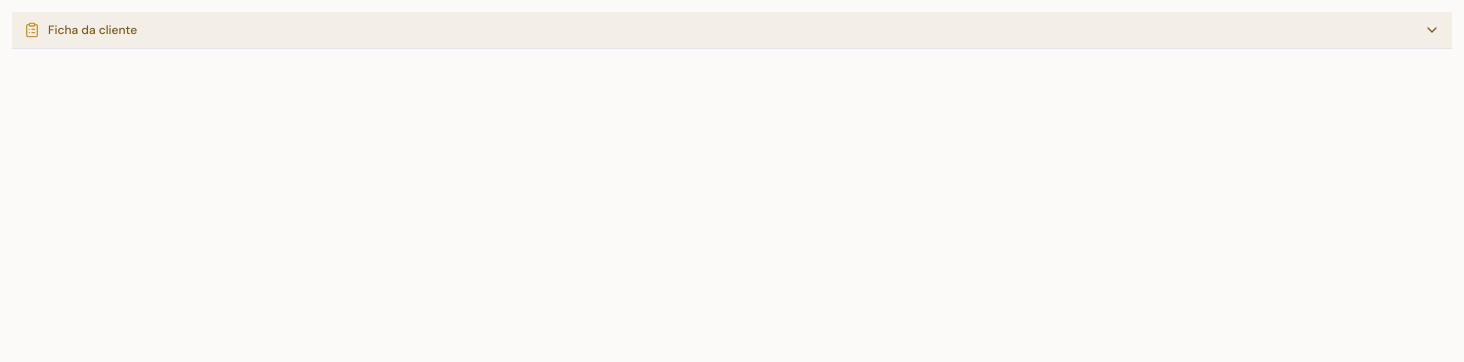
Scenario: Ficha da cliente › abre recolhida, consulta a conversa e mostra o conteúdo ao expandir
Expected: the text "Escolheu vestido verde M" is not shown
Click the button "Ficha da cliente".
click(93, 30)  # box [12,12,1452,48]
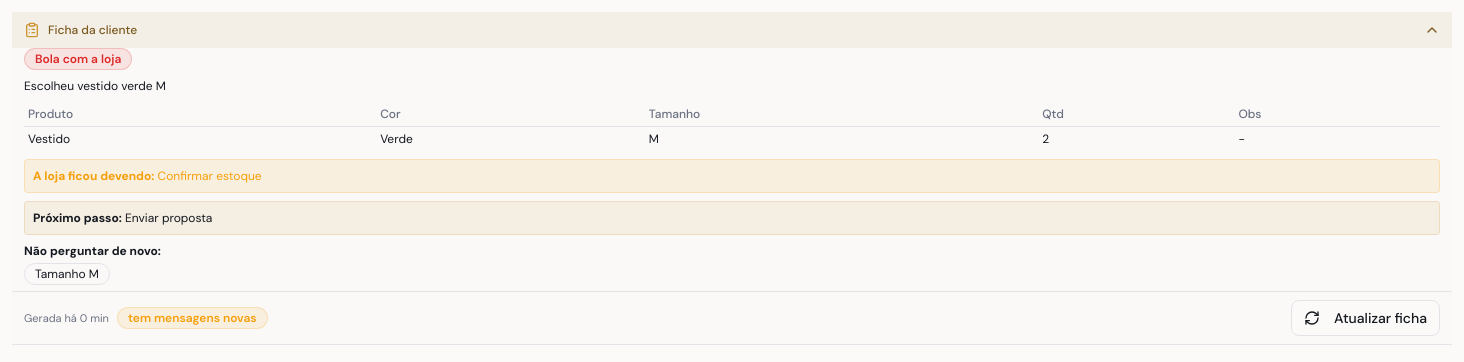
Expected: the text "Escolheu vestido verde M" is shown, [24,78,166,94]
